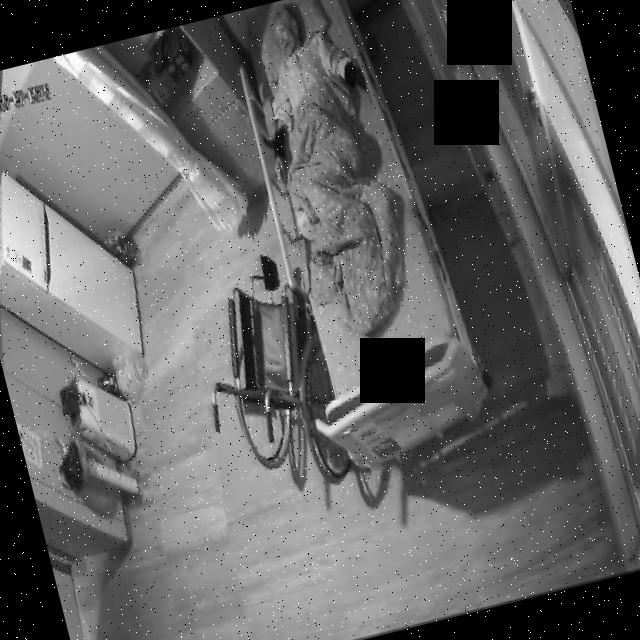bed: (227, 0, 494, 468)
lie: (238, 0, 428, 349)
patient: (233, 0, 378, 159)
